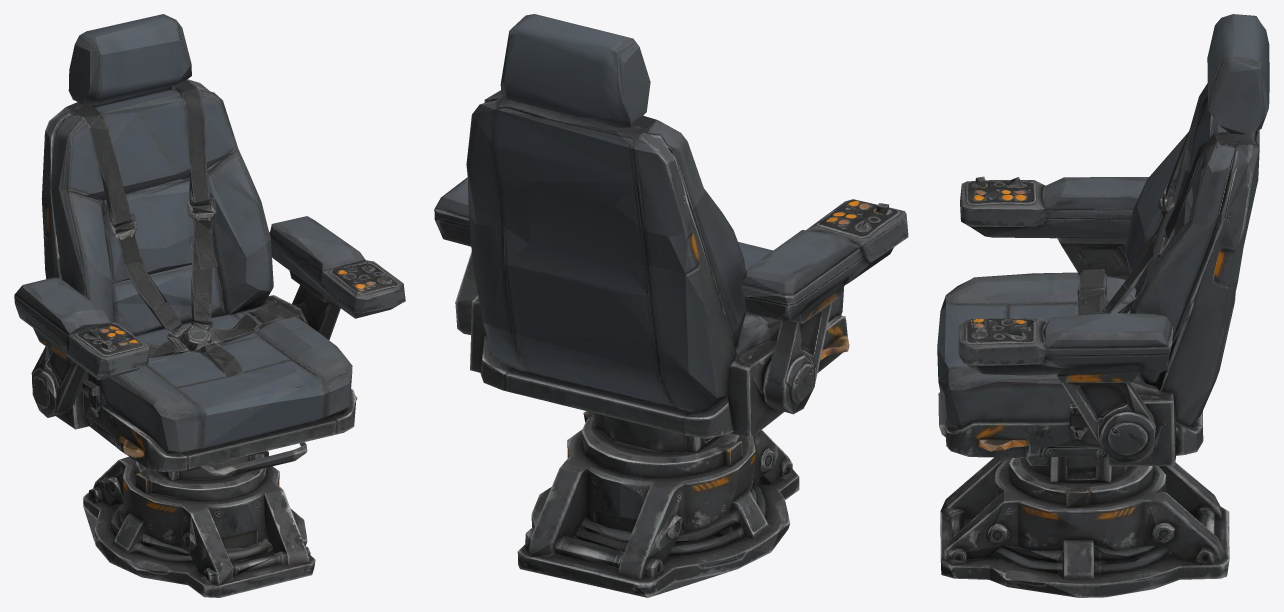
Rendered from chair.glb.
3 renders of one model, left to right at view 1: azimuth 30°, elevation 25°; view 2: azimuth 150°, elevation 25°; view 3: azimuth 270°, elevation 25°, orthographic. The views are drawn at different scales.
Parts seen in each view (by area): view 1: Mesh_0; view 2: Mesh_0; view 3: Mesh_0.
Part boxes in pixels (x1,y1,x2,y2): Mesh_0: [14, 14, 405, 597]; Mesh_0: [434, 14, 908, 597]; Mesh_0: [937, 14, 1269, 597].
Size of the model in its own units: 0.9037 by 1.3 by 0.7588.
1 material, 1 textured.
